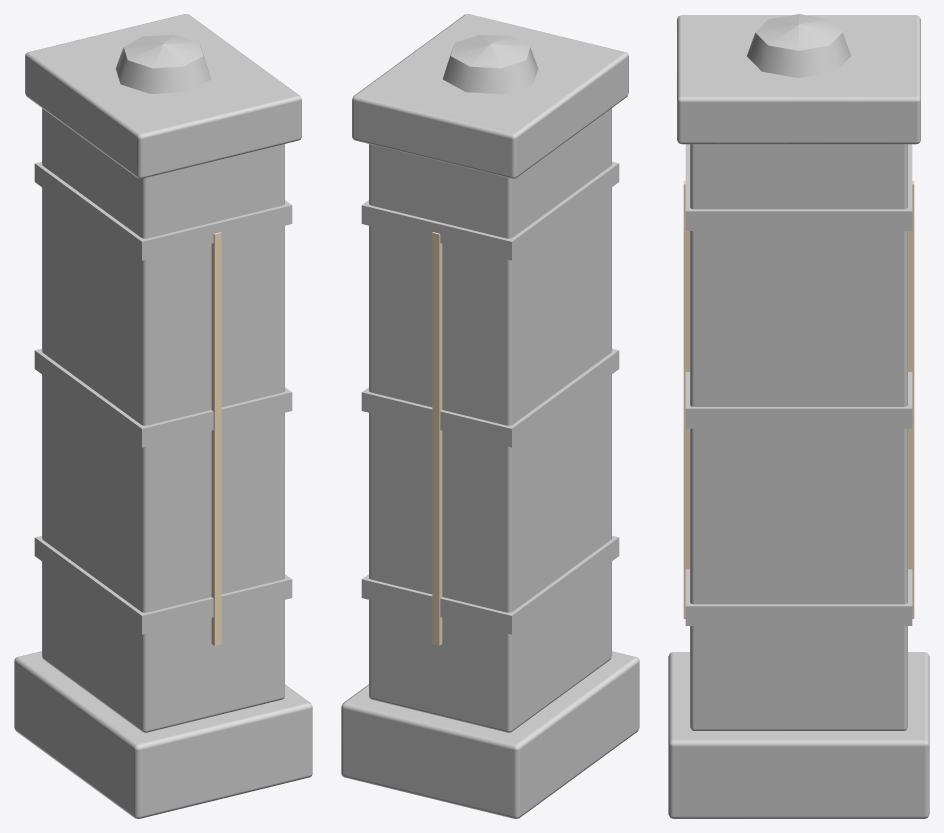
File: GatePier.glb
The picture shows the model from 3 angles, left to right: view 1: azimuth 30°, elevation 25°; view 2: azimuth 150°, elevation 25°; view 3: azimuth 270°, elevation 25°; orthographic projection. The views are drawn at different scales.
Visible parts, largest first — view 1: Body, Glow; view 2: Body, Glow; view 3: Body, Glow.
Part boxes in pixels (bbox=[...]): Body: bbox=[14, 14, 312, 818]; Glow: bbox=[211, 232, 221, 645]; Body: bbox=[341, 14, 639, 818]; Glow: bbox=[432, 232, 442, 645]; Body: bbox=[668, 14, 929, 818]; Glow: bbox=[683, 180, 914, 618].
Bounding box in the file's own units: 5 × 19 × 6.
